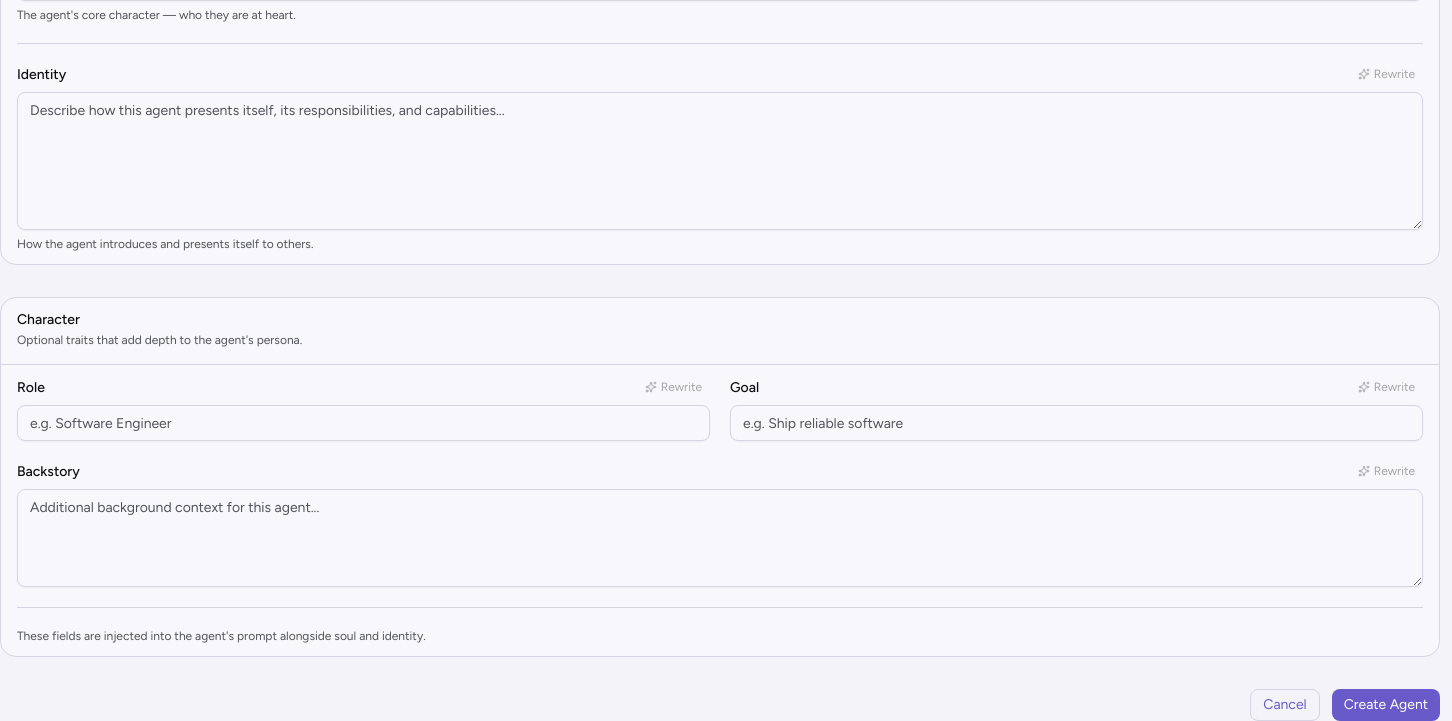
Scenario: CreateAgentForm › rewrites role field via AI
The image size is (1452, 721).
(page scrolled)
Type "Engineer" into the field labelled "Role" at x=364, y=423, box 17,405 -> 710,441
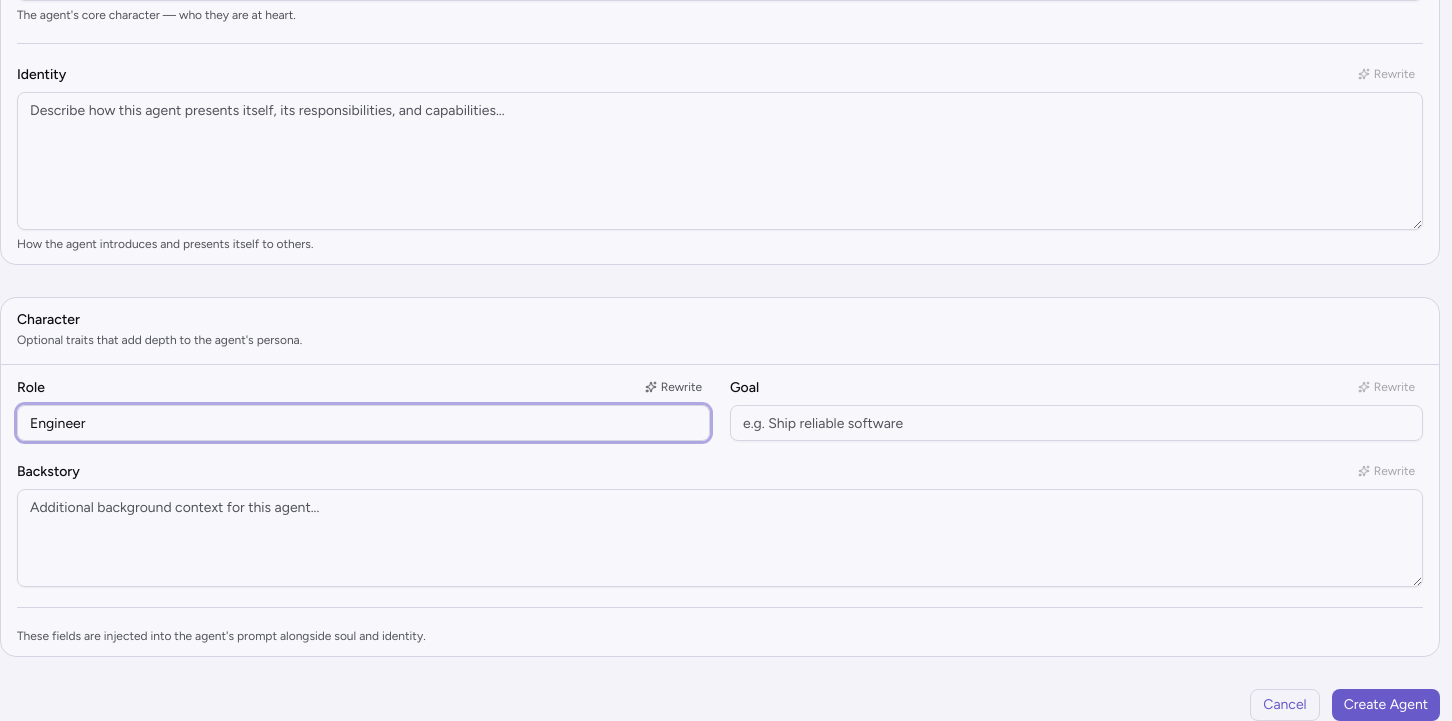
Click the button "Rewrite" in the row of "Role" at x=673, y=387, box 637,377 -> 710,397
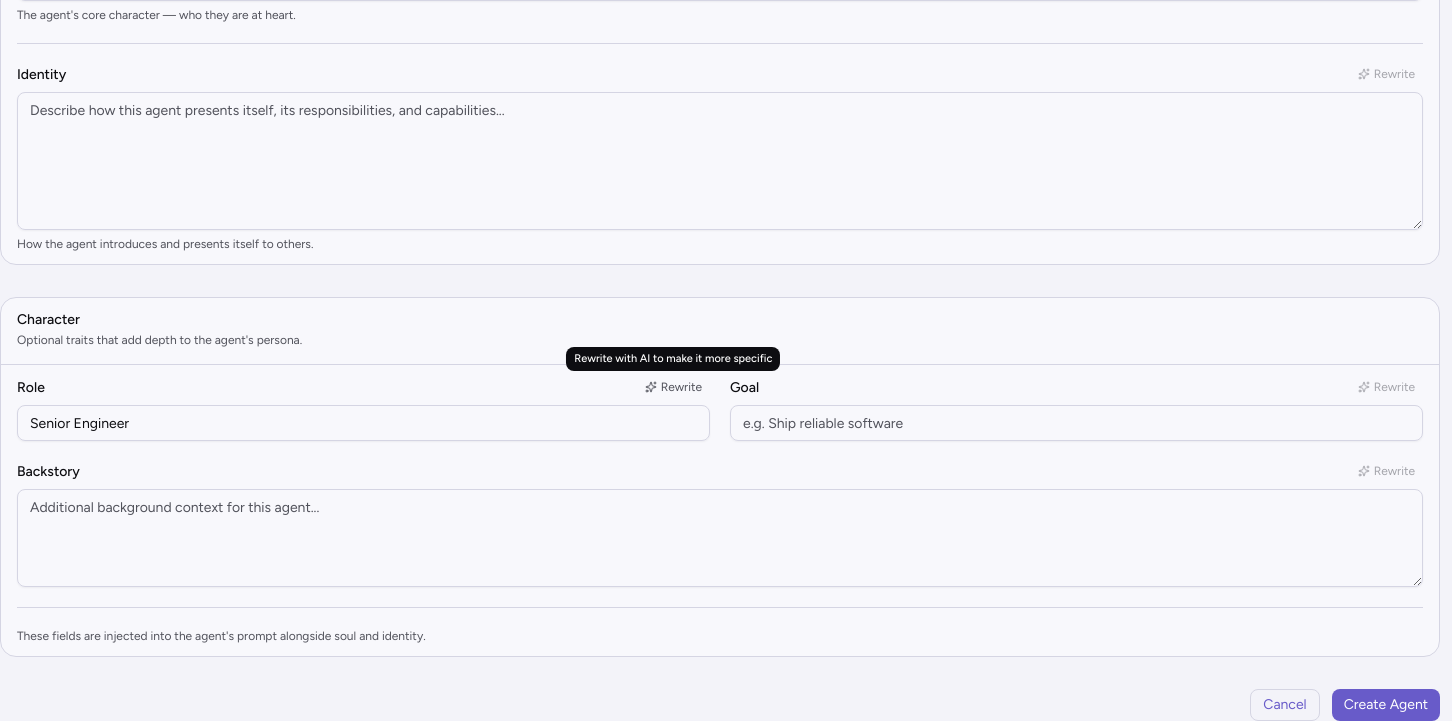
Check: the field labelled "Role" holds "Senior Engineer", box 17,405 -> 710,441
